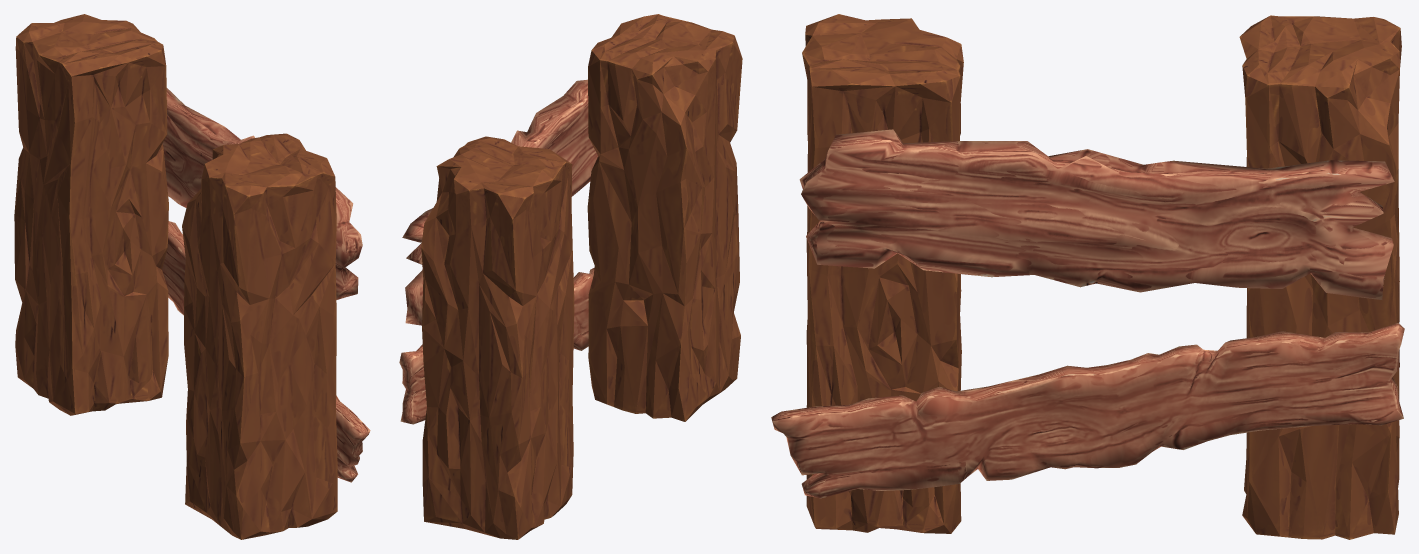
The model's file is fence.fbx.
The picture shows the model from 3 angles, left to right: view 1: azimuth 30°, elevation 25°; view 2: azimuth 150°, elevation 25°; view 3: azimuth 270°, elevation 25°; orthographic projection. The views are drawn at different scales.
Visible parts, largest first — view 1: Plank1, Plank2, Wood2, Wood1; view 2: Plank1, Plank2, Wood2, Wood1; view 3: Wood2, Wood1, Plank2, Plank1.
Boxes of the visible parts, left/top/right/bottom form: Plank1: left=182, top=133, right=337, bottom=539; Plank2: left=14, top=14, right=168, bottom=415; Wood2: left=162, top=88, right=362, bottom=299; Wood1: left=162, top=221, right=370, bottom=482; Plank1: left=587, top=14, right=742, bottom=421; Plank2: left=421, top=136, right=574, bottom=539; Wood2: left=402, top=79, right=597, bottom=325; Wood1: left=399, top=267, right=594, bottom=424; Wood2: left=799, top=129, right=1394, bottom=299; Wood1: left=771, top=323, right=1404, bottom=498; Plank2: left=1239, top=15, right=1401, bottom=539; Plank1: left=802, top=14, right=963, bottom=533.
Size of the model in its own units: 311 by 808 by 997.
